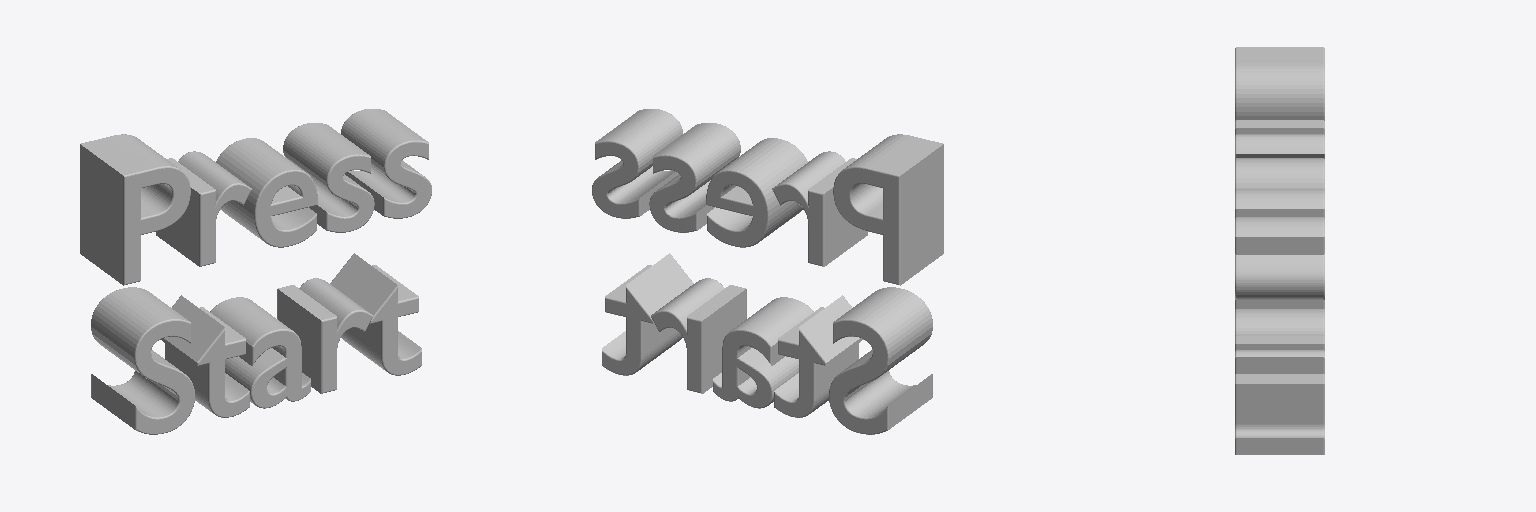
Rendered from Start Here.obj.
The picture shows the model from 3 angles: view 1: azimuth 30°, elevation 25°; view 2: azimuth 150°, elevation 25°; view 3: azimuth 270°, elevation 25°; orthographic projection.
Visible parts, largest first — view 1: Text; view 2: Text; view 3: Text.
Part boxes in pixels (left/top/right/bottom): Text: left=80, top=109, right=431, bottom=434; Text: left=592, top=109, right=943, bottom=434; Text: left=1235, top=47, right=1324, bottom=454.
Bounding box in the file's own units: 397 × 329 × 99.9.